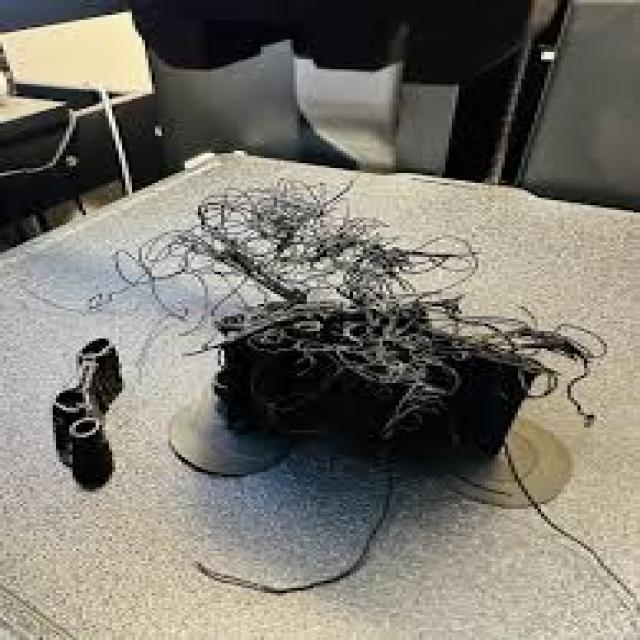spaghetti: (86, 158, 508, 371)
